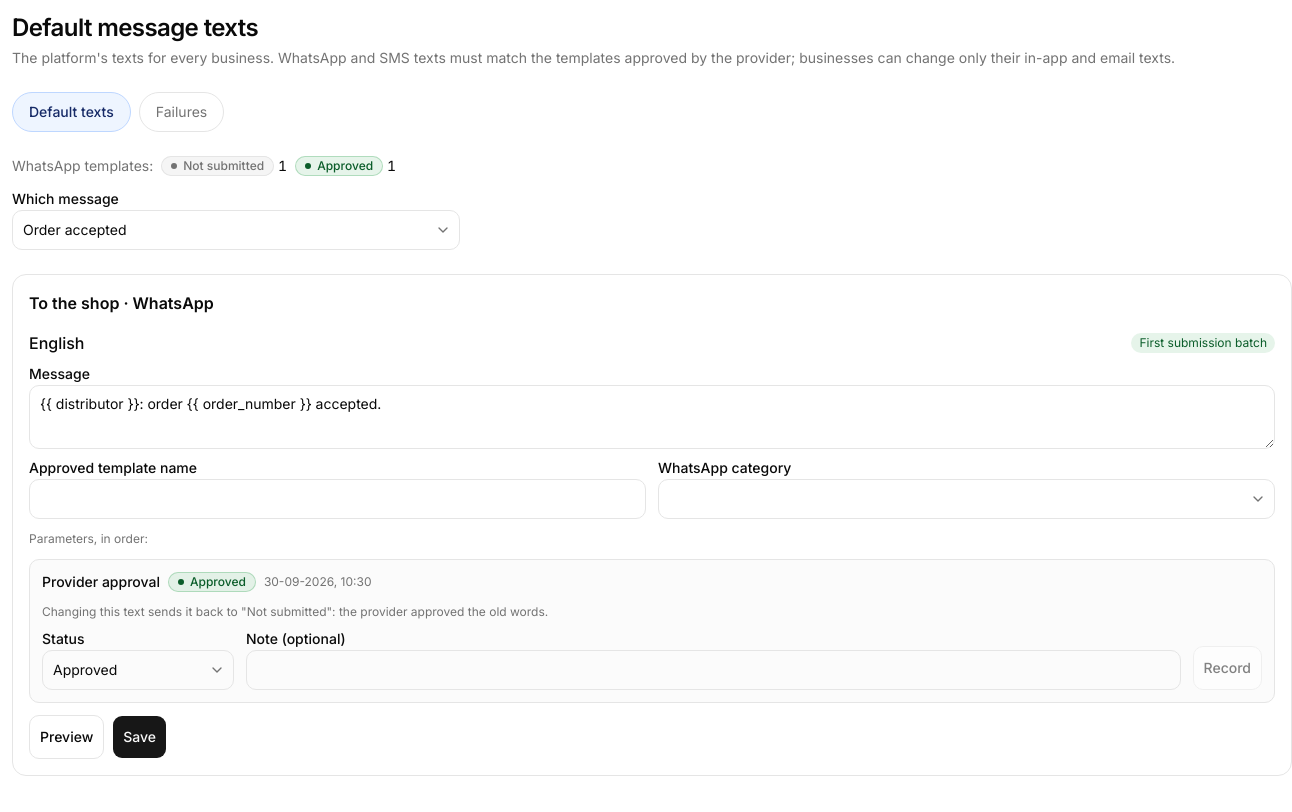
WhatsApp template approval › records the provider's answer, asking why when it was rejected
Expected: the text "Changing this text sends it back" is shown, [42,604,548,619]
Expected: the text "WhatsApp templates:" is shown, [12,156,153,176]
Click the dropdown named "Status" at {"x": 138, "y": 670}, box [42,650,234,690]
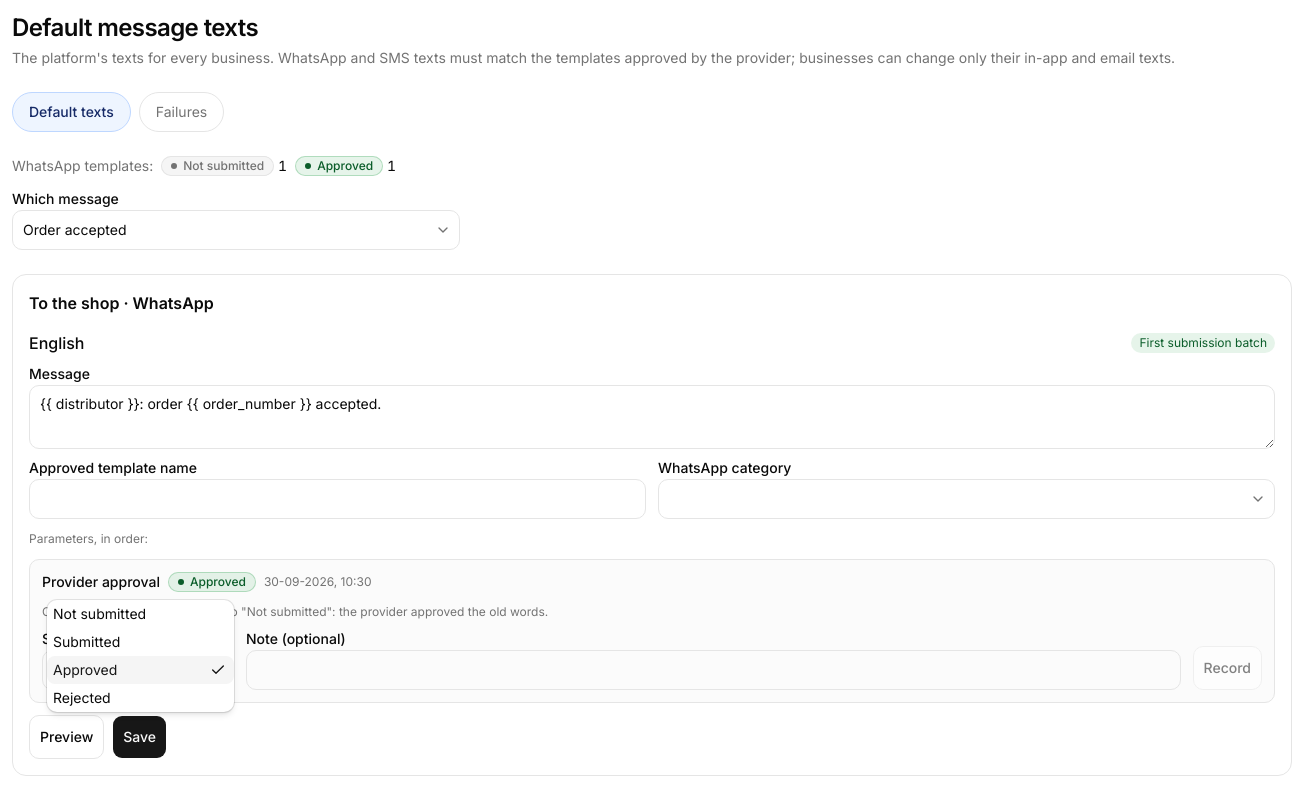
Click the option "Rejected" at {"x": 82, "y": 698}, box [53,689,111,706]
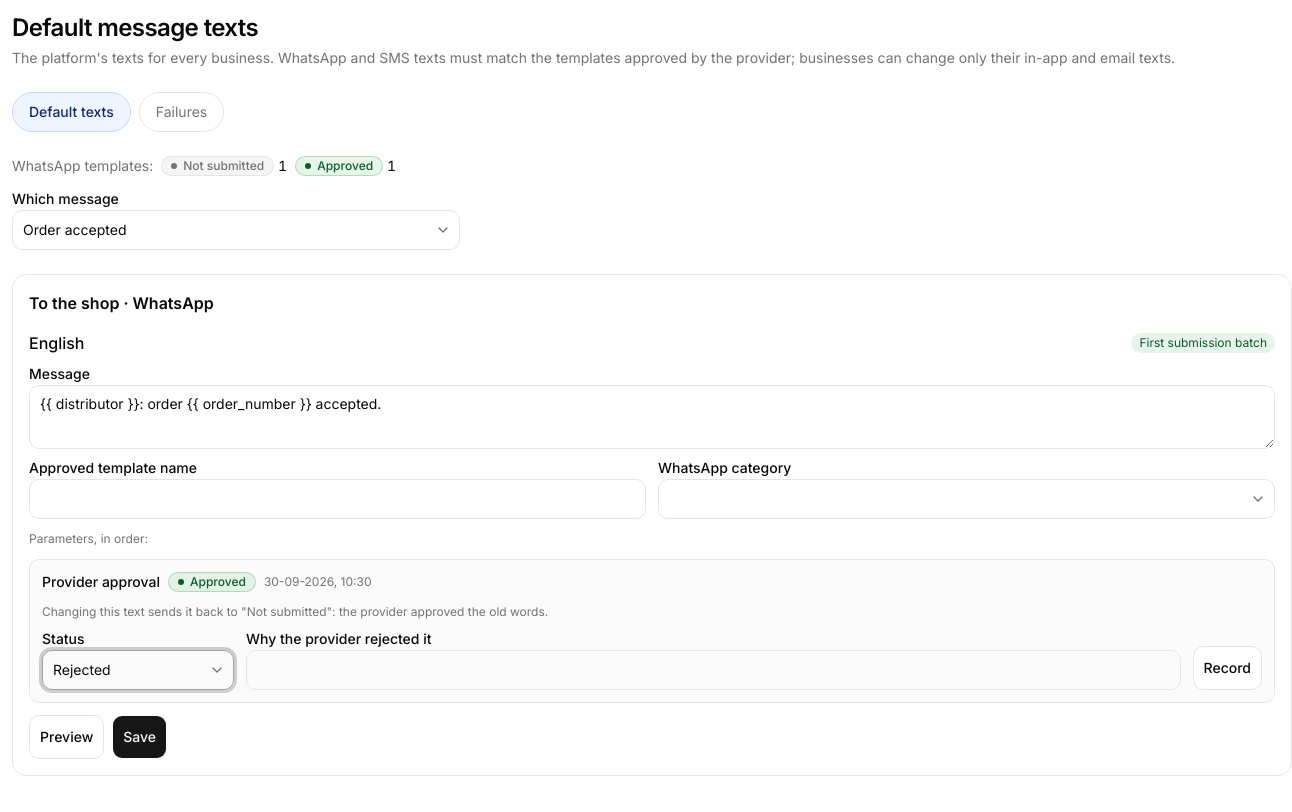
Click the button "Record" at {"x": 1227, "y": 668}, box [1193,646,1262,690]
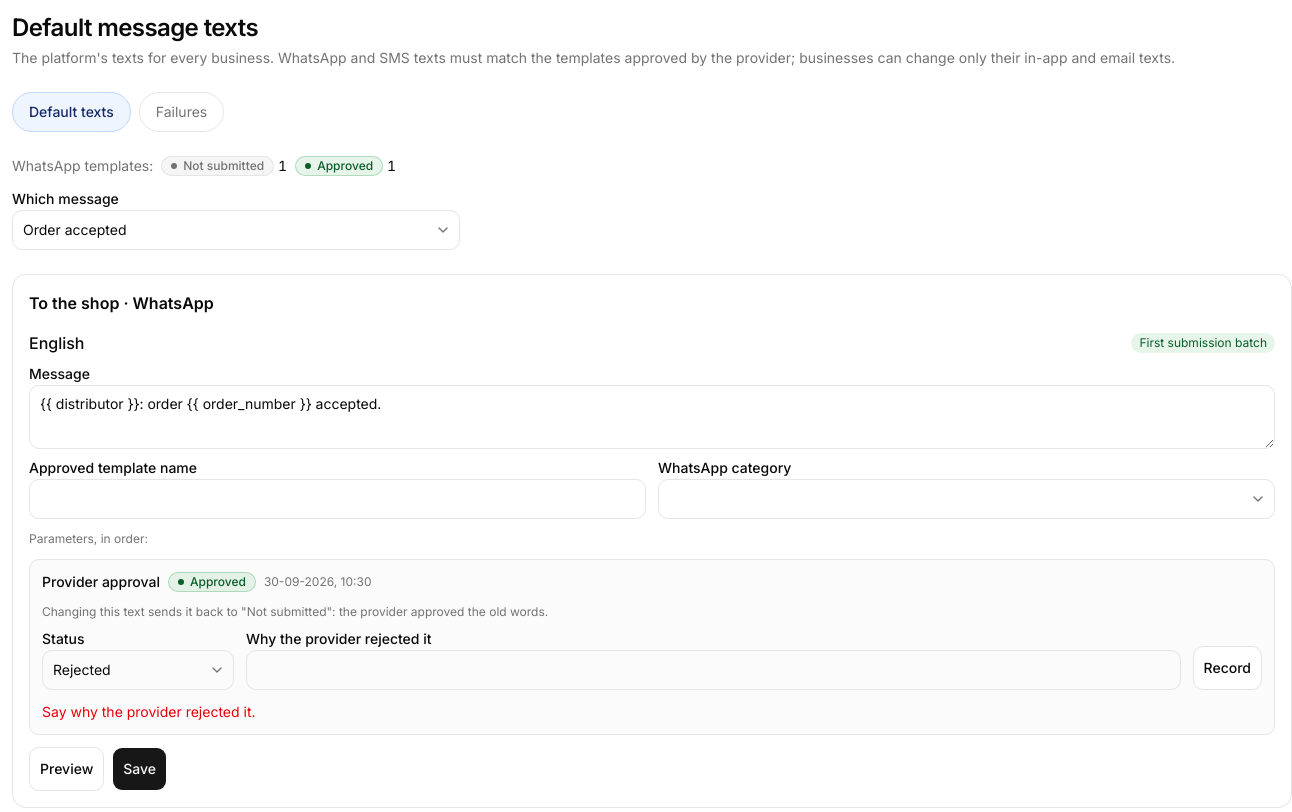
Expected: the text "Say why the provider rejected it." is shown, [42,703,256,720]
